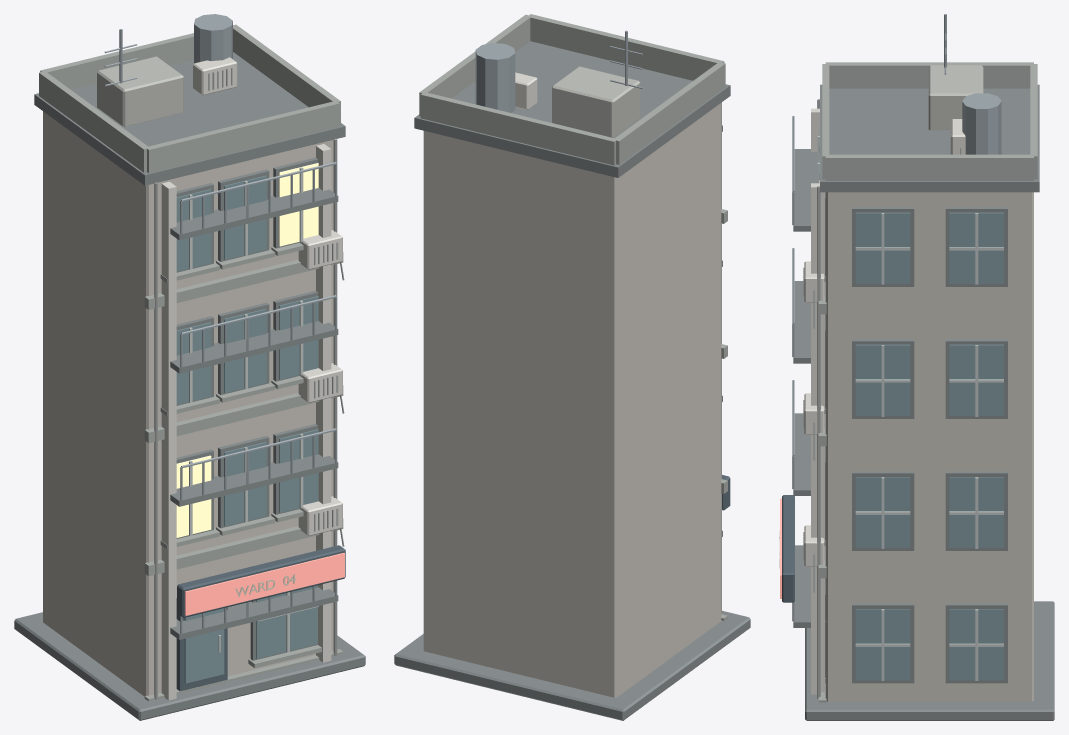
The model's file is SM_ENV_Building_10_HospitalWard.glb.
The picture shows the model from 3 angles, left to right: view 1: azimuth 30°, elevation 25°; view 2: azimuth 150°, elevation 25°; view 3: azimuth 270°, elevation 25°; orthographic projection. The views are drawn at different scales.
Visible parts, largest first — view 1: SM_ENV_Building_10_HospitalWard; view 2: SM_ENV_Building_10_HospitalWard; view 3: SM_ENV_Building_10_HospitalWard.
Part boxes in pixels (x1,y1,x2,y2): SM_ENV_Building_10_HospitalWard: (14,14,365,720); SM_ENV_Building_10_HospitalWard: (394,14,750,720); SM_ENV_Building_10_HospitalWard: (779,14,1054,720).
Size of the model in its own units: 5 by 13.2 by 5.3.
